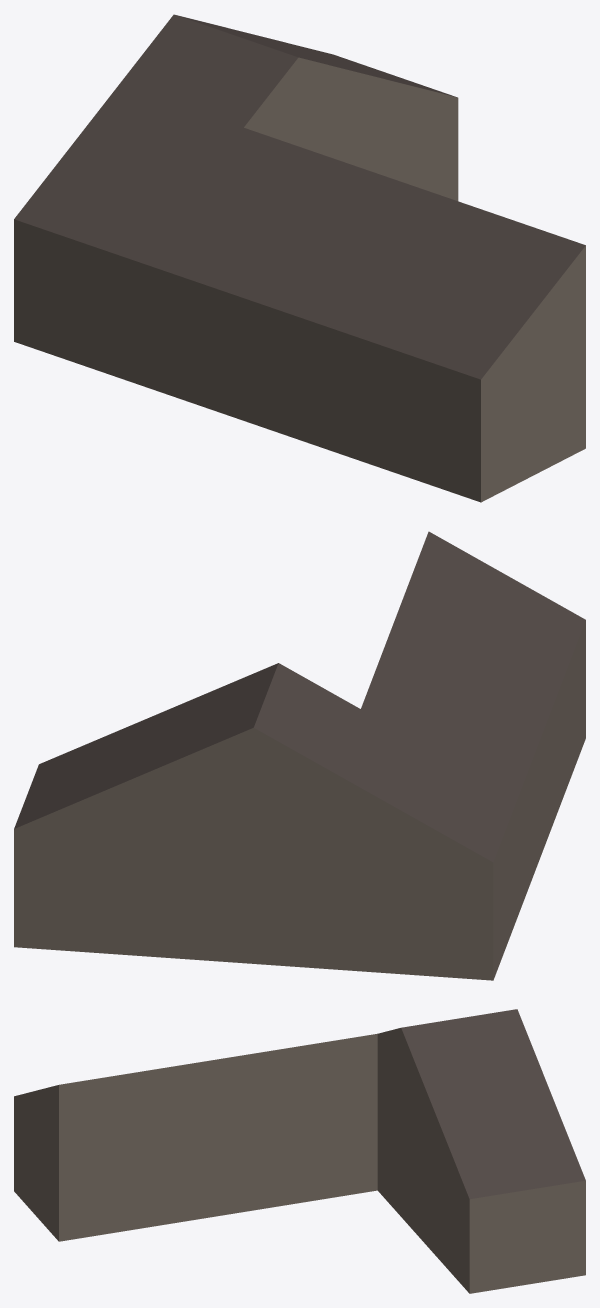
The picture shows the model from 3 angles, top to bottom: view 1: azimuth 30°, elevation 25°; view 2: azimuth 150°, elevation 25°; view 3: azimuth 270°, elevation 25°; orthographic projection. The views are drawn at different scales.
Parts seen in each view (by area): view 1: HP-w1376988754; view 2: HP-w1376988754; view 3: HP-w1376988754.
Part boxes in pixels (x1,y1,x2,y2): HP-w1376988754: (14,14,585,502); HP-w1376988754: (14,531,585,980); HP-w1376988754: (14,1009,585,1293).
Bounding box in the file's own units: 23.47 × 12 × 32.87.
